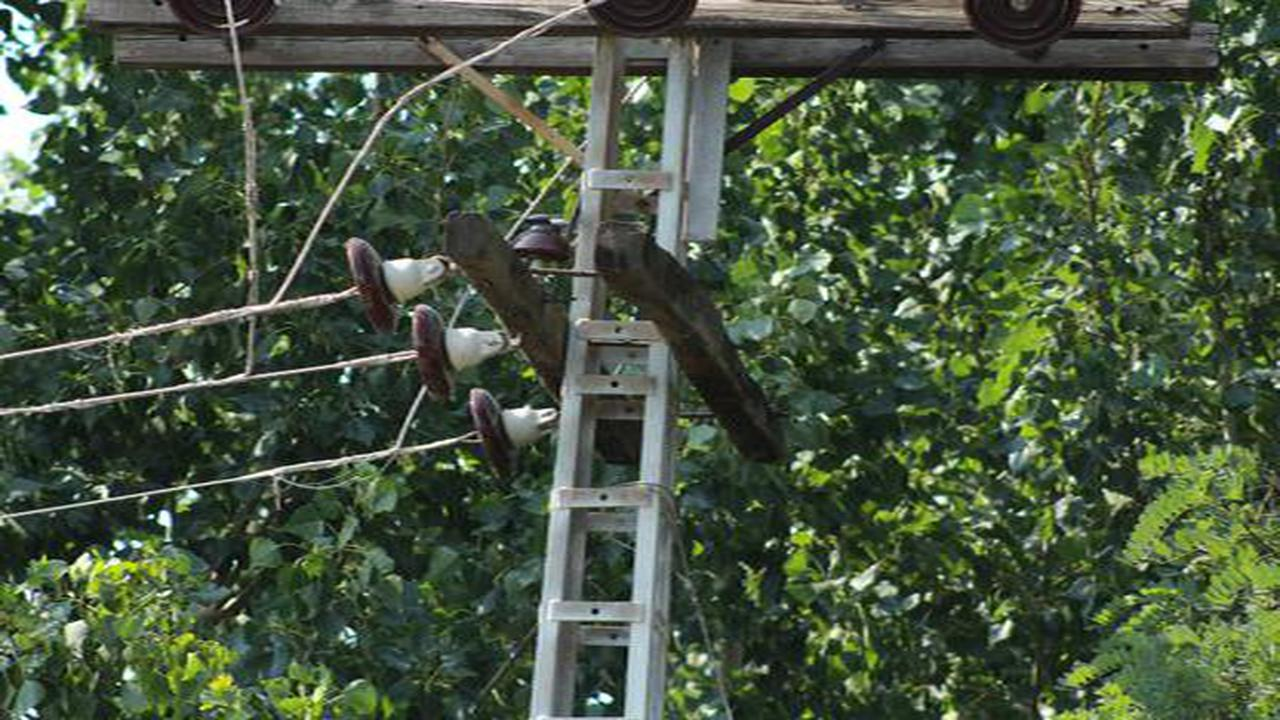insulator_disc: (459, 383, 562, 492), (342, 227, 462, 317), (402, 305, 513, 395)
